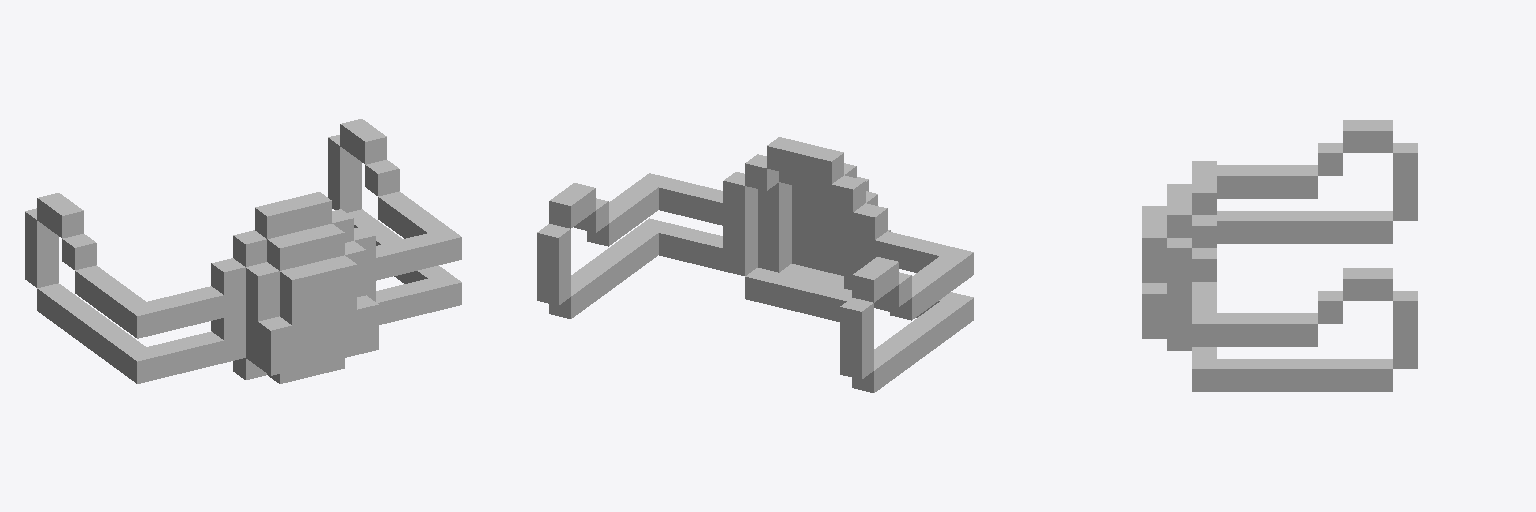
The model's file is medicinskaya_maska.obj.
3 views of the same model, side by side, from view 1: azimuth 30°, elevation 25°; view 2: azimuth 150°, elevation 25°; view 3: azimuth 270°, elevation 25° (orthographic).
Parts seen in each view (by area): view 1: medicinskaya_maska.001; view 2: medicinskaya_maska.001; view 3: medicinskaya_maska.001.
Boxes of the visible parts, x1=… form: medicinskaya_maska.001: x1=25, y1=119, x2=461, y2=383; medicinskaya_maska.001: x1=537, y1=137, x2=973, y2=392; medicinskaya_maska.001: x1=1142, y1=120, x2=1417, y2=391.
Size of the model in its own units: 15 by 7 by 11.